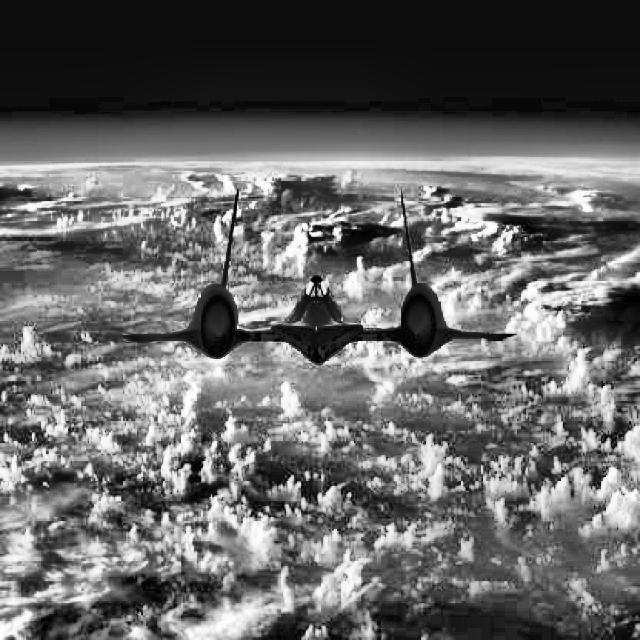SR71: (120, 188, 517, 366)
